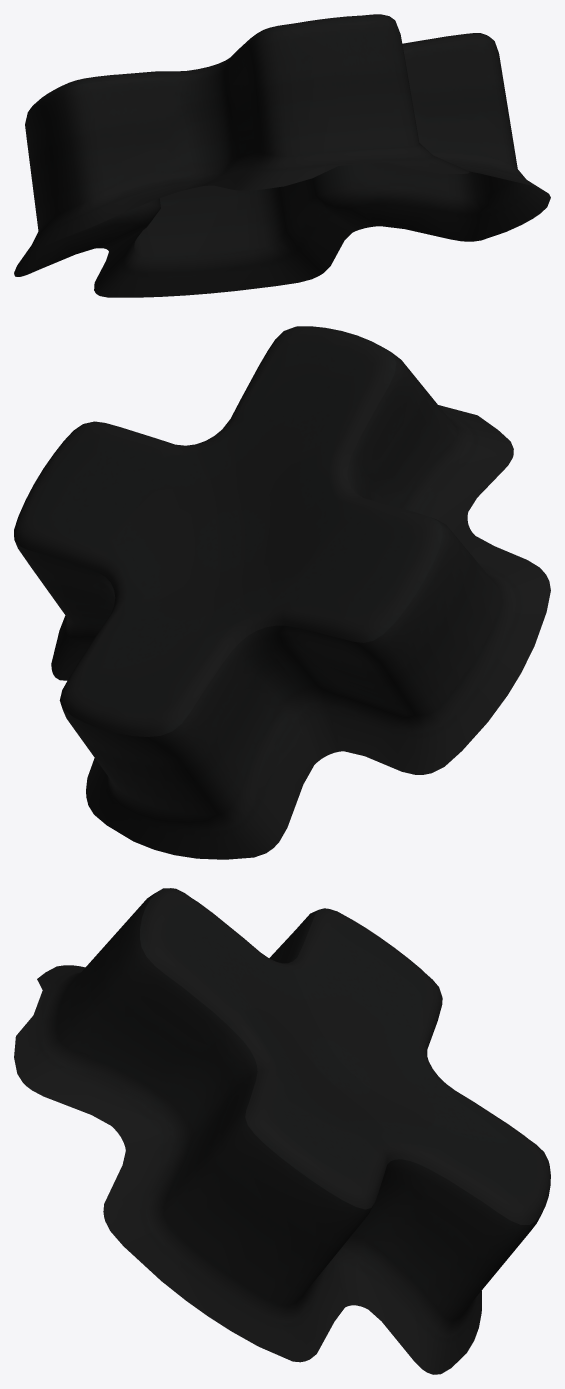
The model's file is frame_controller_left_dpad.obj.
The picture shows the model from 3 angles, top to bottom: view 1: azimuth 30°, elevation 25°; view 2: azimuth 150°, elevation 25°; view 3: azimuth 270°, elevation 25°; orthographic projection. The views are drawn at different scales.
Parts seen in each view (by area): view 1: frame_controller_left_dpad; view 2: frame_controller_left_dpad; view 3: frame_controller_left_dpad.
Boxes of the visible parts, bbox=[...] form: frame_controller_left_dpad: bbox=[14, 14, 550, 297]; frame_controller_left_dpad: bbox=[14, 326, 550, 859]; frame_controller_left_dpad: bbox=[14, 888, 550, 1374].
Bounding box in the file's own units: 0.0257 × 0.0209 × 0.0246.
Materials: 1 (1 with a texture image).
